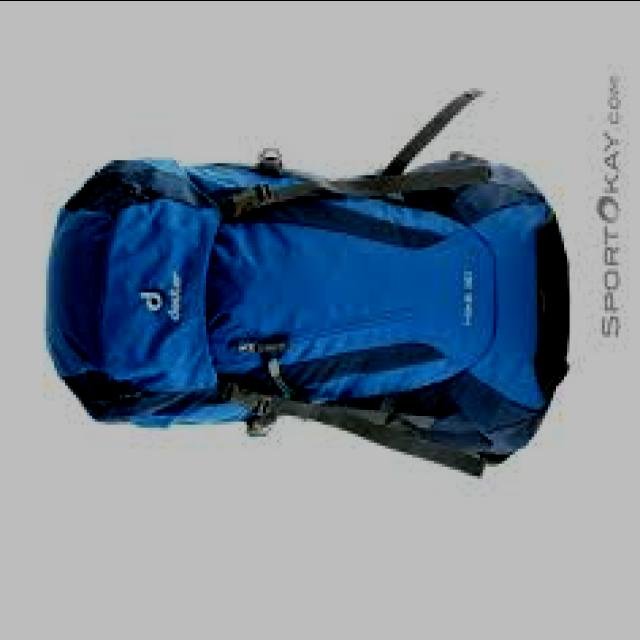backpack: (45, 91, 571, 479)
